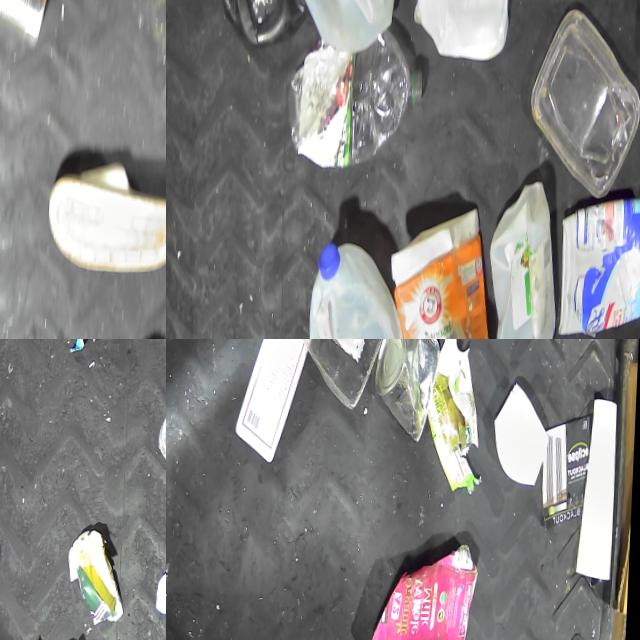can: (375, 339, 443, 446), (0, 0, 46, 47)
milk_jug: (480, 181, 580, 339), (311, 235, 422, 339), (236, 339, 320, 464), (411, 0, 519, 72), (275, 0, 407, 56)
non_white_jug: (213, 0, 321, 55)
plastic_bottle: (292, 18, 421, 174)
